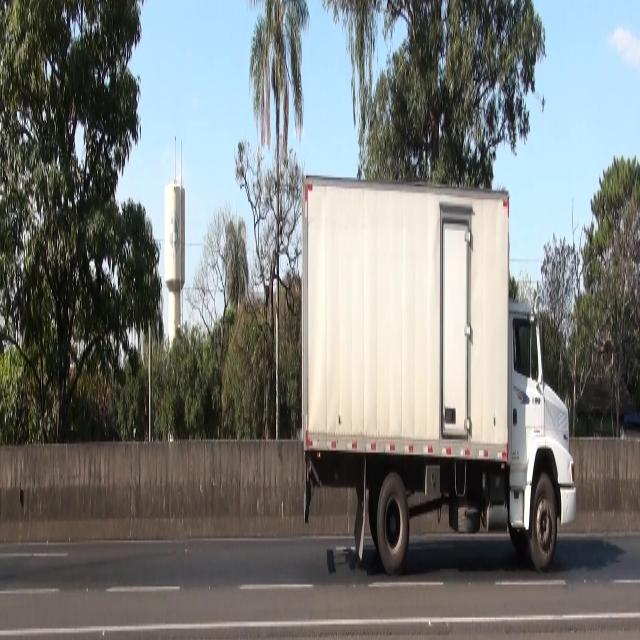-axle: (374, 476, 410, 567), (528, 471, 560, 567)
